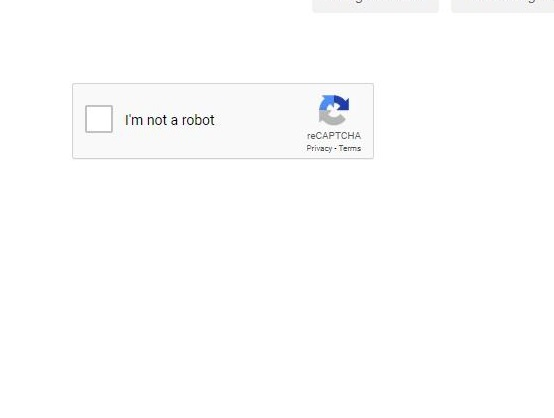captcha: (85, 105, 219, 133)
